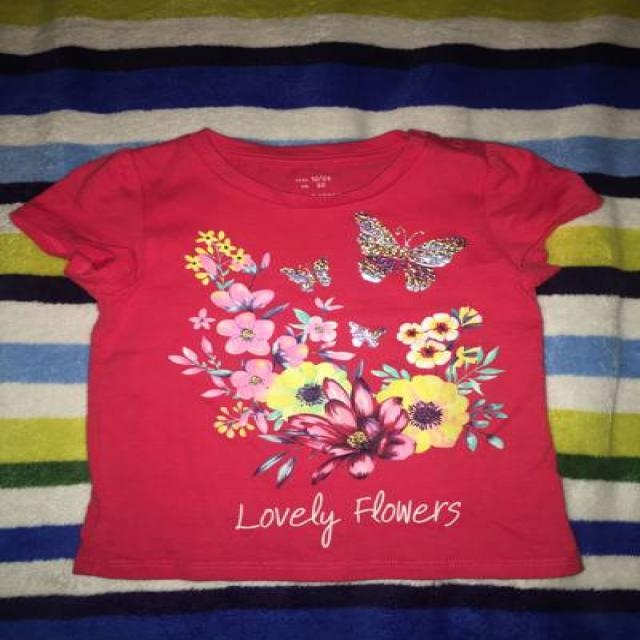Clothes -Biodegradable-: (8, 125, 602, 585)
